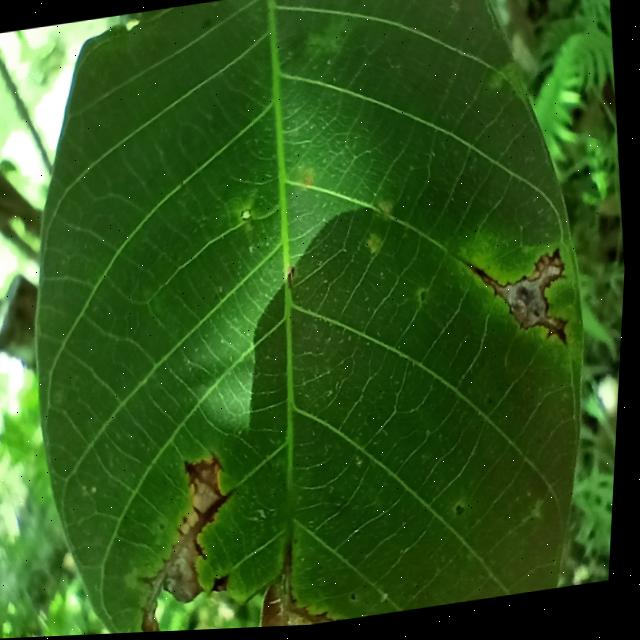Corynespora: (462, 248, 577, 364), (171, 449, 250, 564)
Leaf-Blight: (241, 573, 378, 631), (139, 535, 211, 634)
